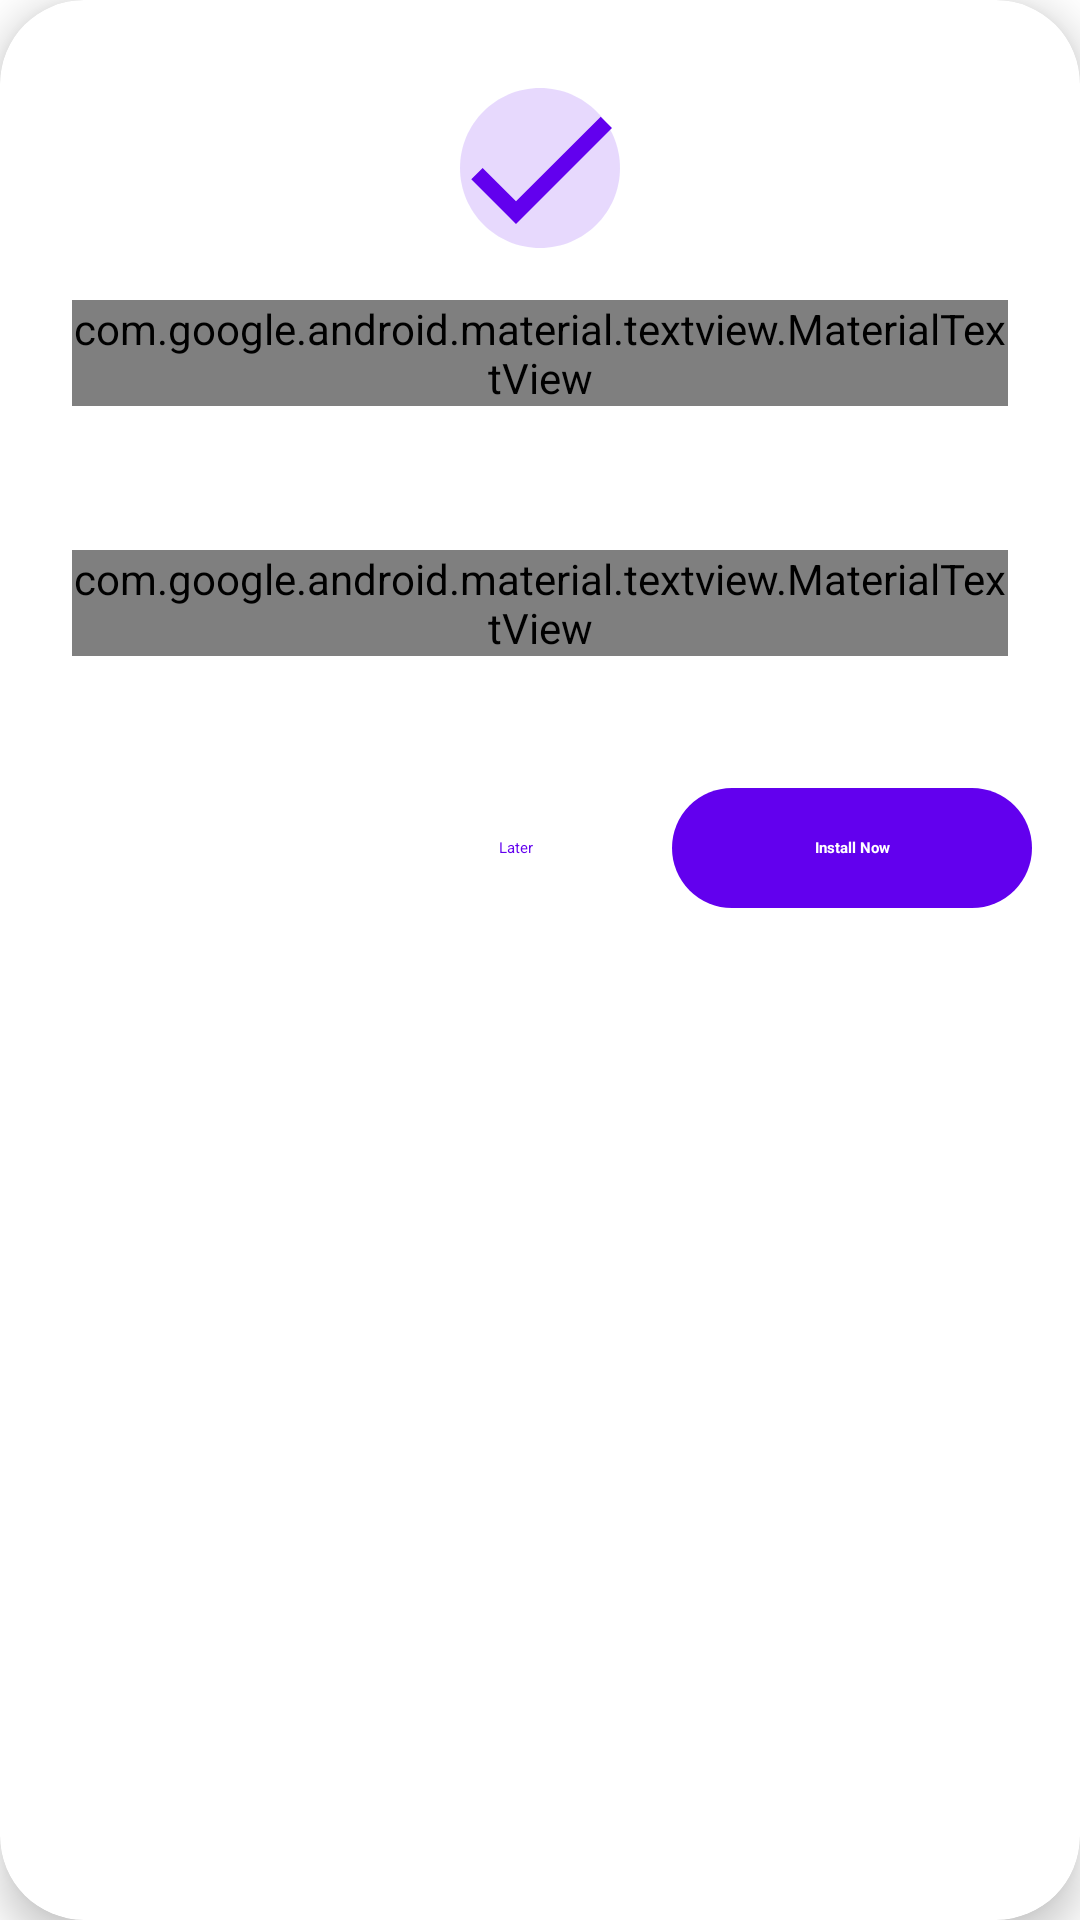

Icon bounding boxes for this 1080px x 1920px phone screenshot, format rect(x1, y1, x2, y2):
success check: rect(460, 88, 620, 248)
